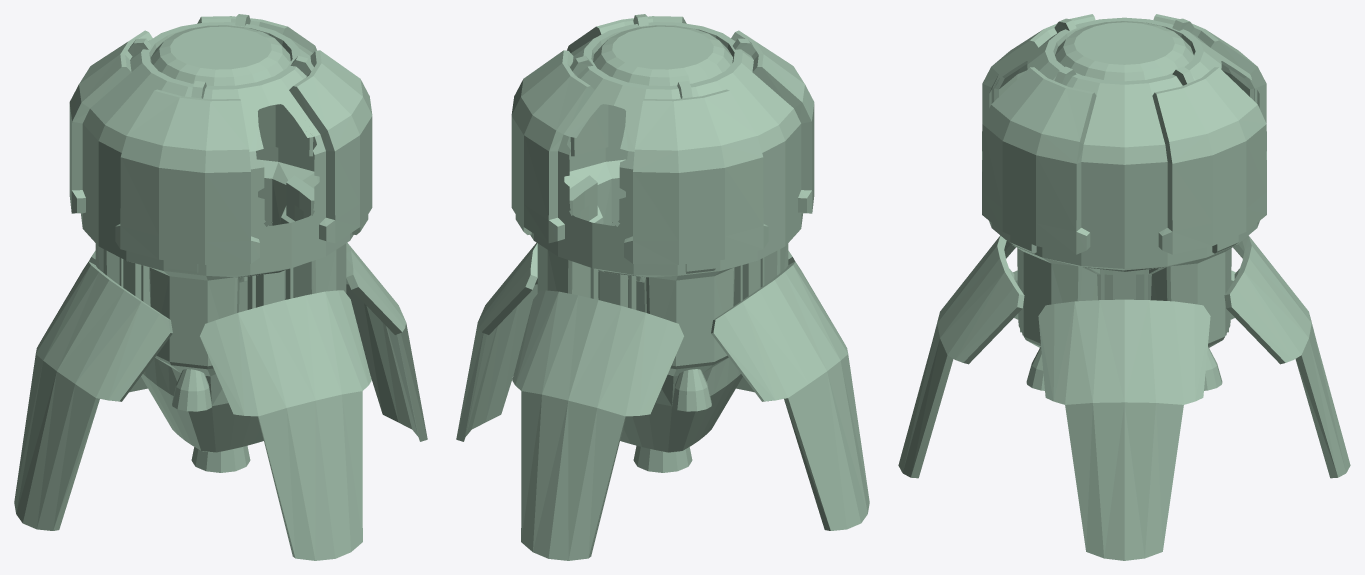
The model's file is REENTRY_CRAFT_outside_Fbx.fbx.
3 views of the same model, side by side, from view 1: azimuth 30°, elevation 25°; view 2: azimuth 150°, elevation 25°; view 3: azimuth 270°, elevation 25° (orthographic).
Parts seen in each view (by area): view 1: EPOD_static_open_holes_GEO; view 2: EPOD_static_open_holes_GEO; view 3: EPOD_static_open_holes_GEO.
Boxes of the visible parts, left/top/right/bottom form: EPOD_static_open_holes_GEO: left=14, top=14, right=427, bottom=560; EPOD_static_open_holes_GEO: left=456, top=14, right=869, bottom=560; EPOD_static_open_holes_GEO: left=898, top=14, right=1350, bottom=560.
Bounding box in the file's own units: 9.39 × 9.69 × 9.39.
